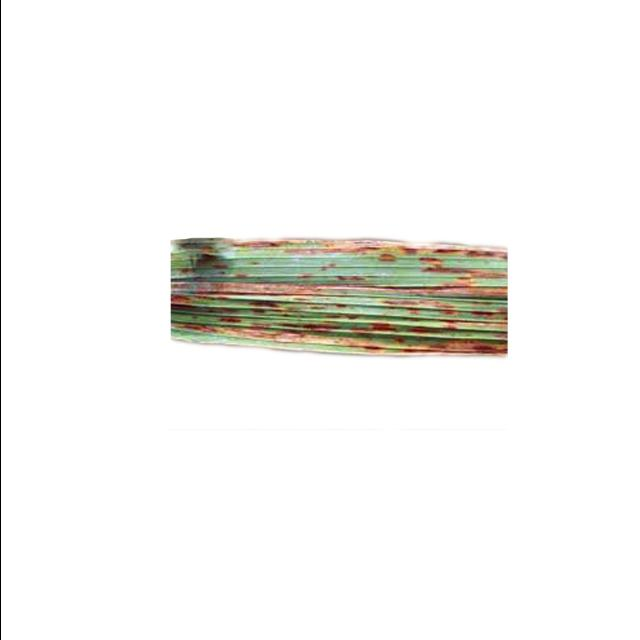Narrow brown: (84, 160, 533, 428)
